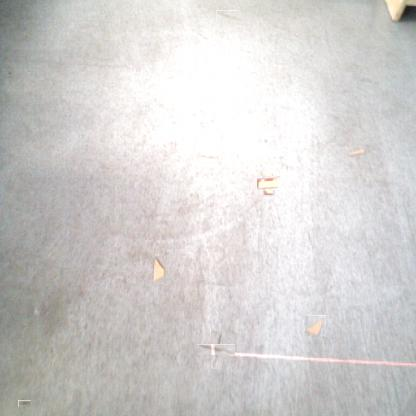dirty: (304, 315, 326, 336), (152, 256, 166, 284), (259, 173, 277, 193), (346, 146, 366, 158)
mark: (204, 338, 229, 362), (216, 10, 239, 21), (20, 399, 29, 408), (6, 70, 12, 78)
